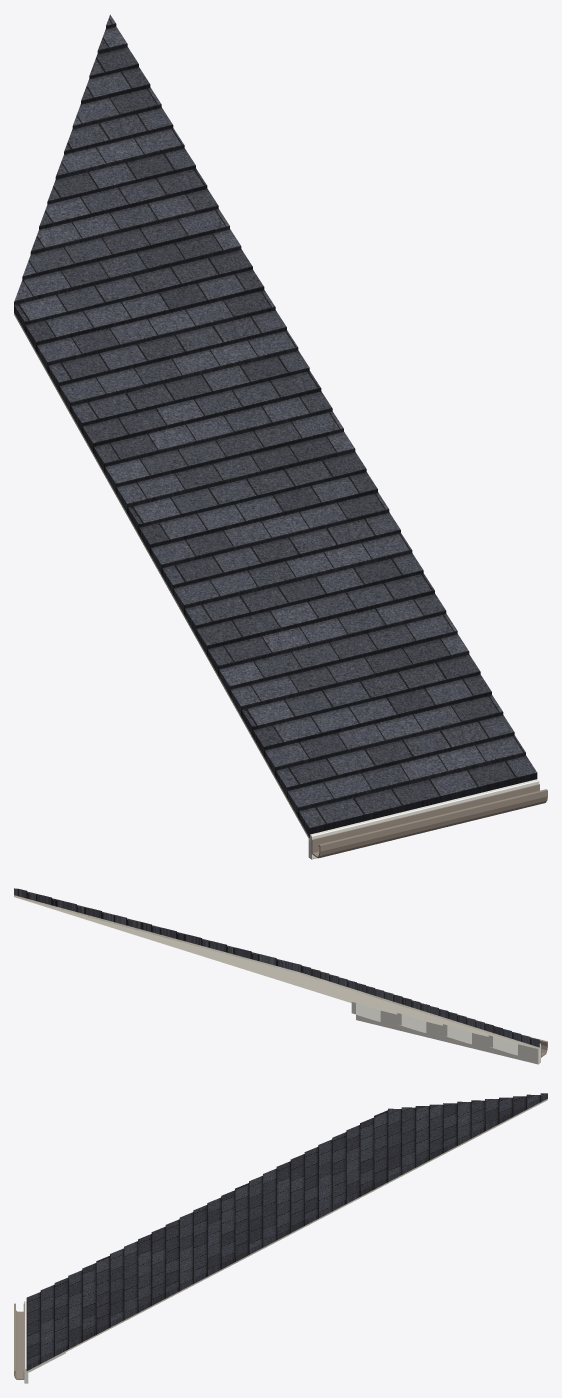
Rendered from roof_main_2_l.glb.
3 renders of one model, top to bottom at view 1: azimuth 30°, elevation 25°; view 2: azimuth 150°, elevation 25°; view 3: azimuth 270°, elevation 25°, orthographic. The views are drawn at different scales.
Visible parts, largest first — view 1: roof_main_2_l_shingles, roof_main_2_l_gutter, roof_main_2_l_trim, roof_main_2_l_plaster; view 2: roof_main_2_l_plaster, roof_main_2_l_shingles, roof_main_2_l_trim; view 3: roof_main_2_l_shingles, roof_main_2_l_plaster, roof_main_2_l_gutter.
Boxes of the visible parts, box(x1,y1,x2,y2) form: roof_main_2_l_shingles: box(14, 14, 537, 837); roof_main_2_l_gutter: box(311, 784, 547, 858); roof_main_2_l_trim: box(308, 779, 539, 859); roof_main_2_l_plaster: box(14, 312, 309, 840); roof_main_2_l_plaster: box(14, 895, 539, 1049); roof_main_2_l_shingles: box(14, 888, 539, 1047); roof_main_2_l_trim: box(351, 1002, 540, 1064); roof_main_2_l_shingles: box(26, 1093, 547, 1370); roof_main_2_l_plaster: box(26, 1099, 547, 1372); roof_main_2_l_gutter: box(14, 1303, 24, 1379).
Size of the model in its own units: 2 by 3.99 by 6.66.
Materials: 4 (2 with a texture image).
